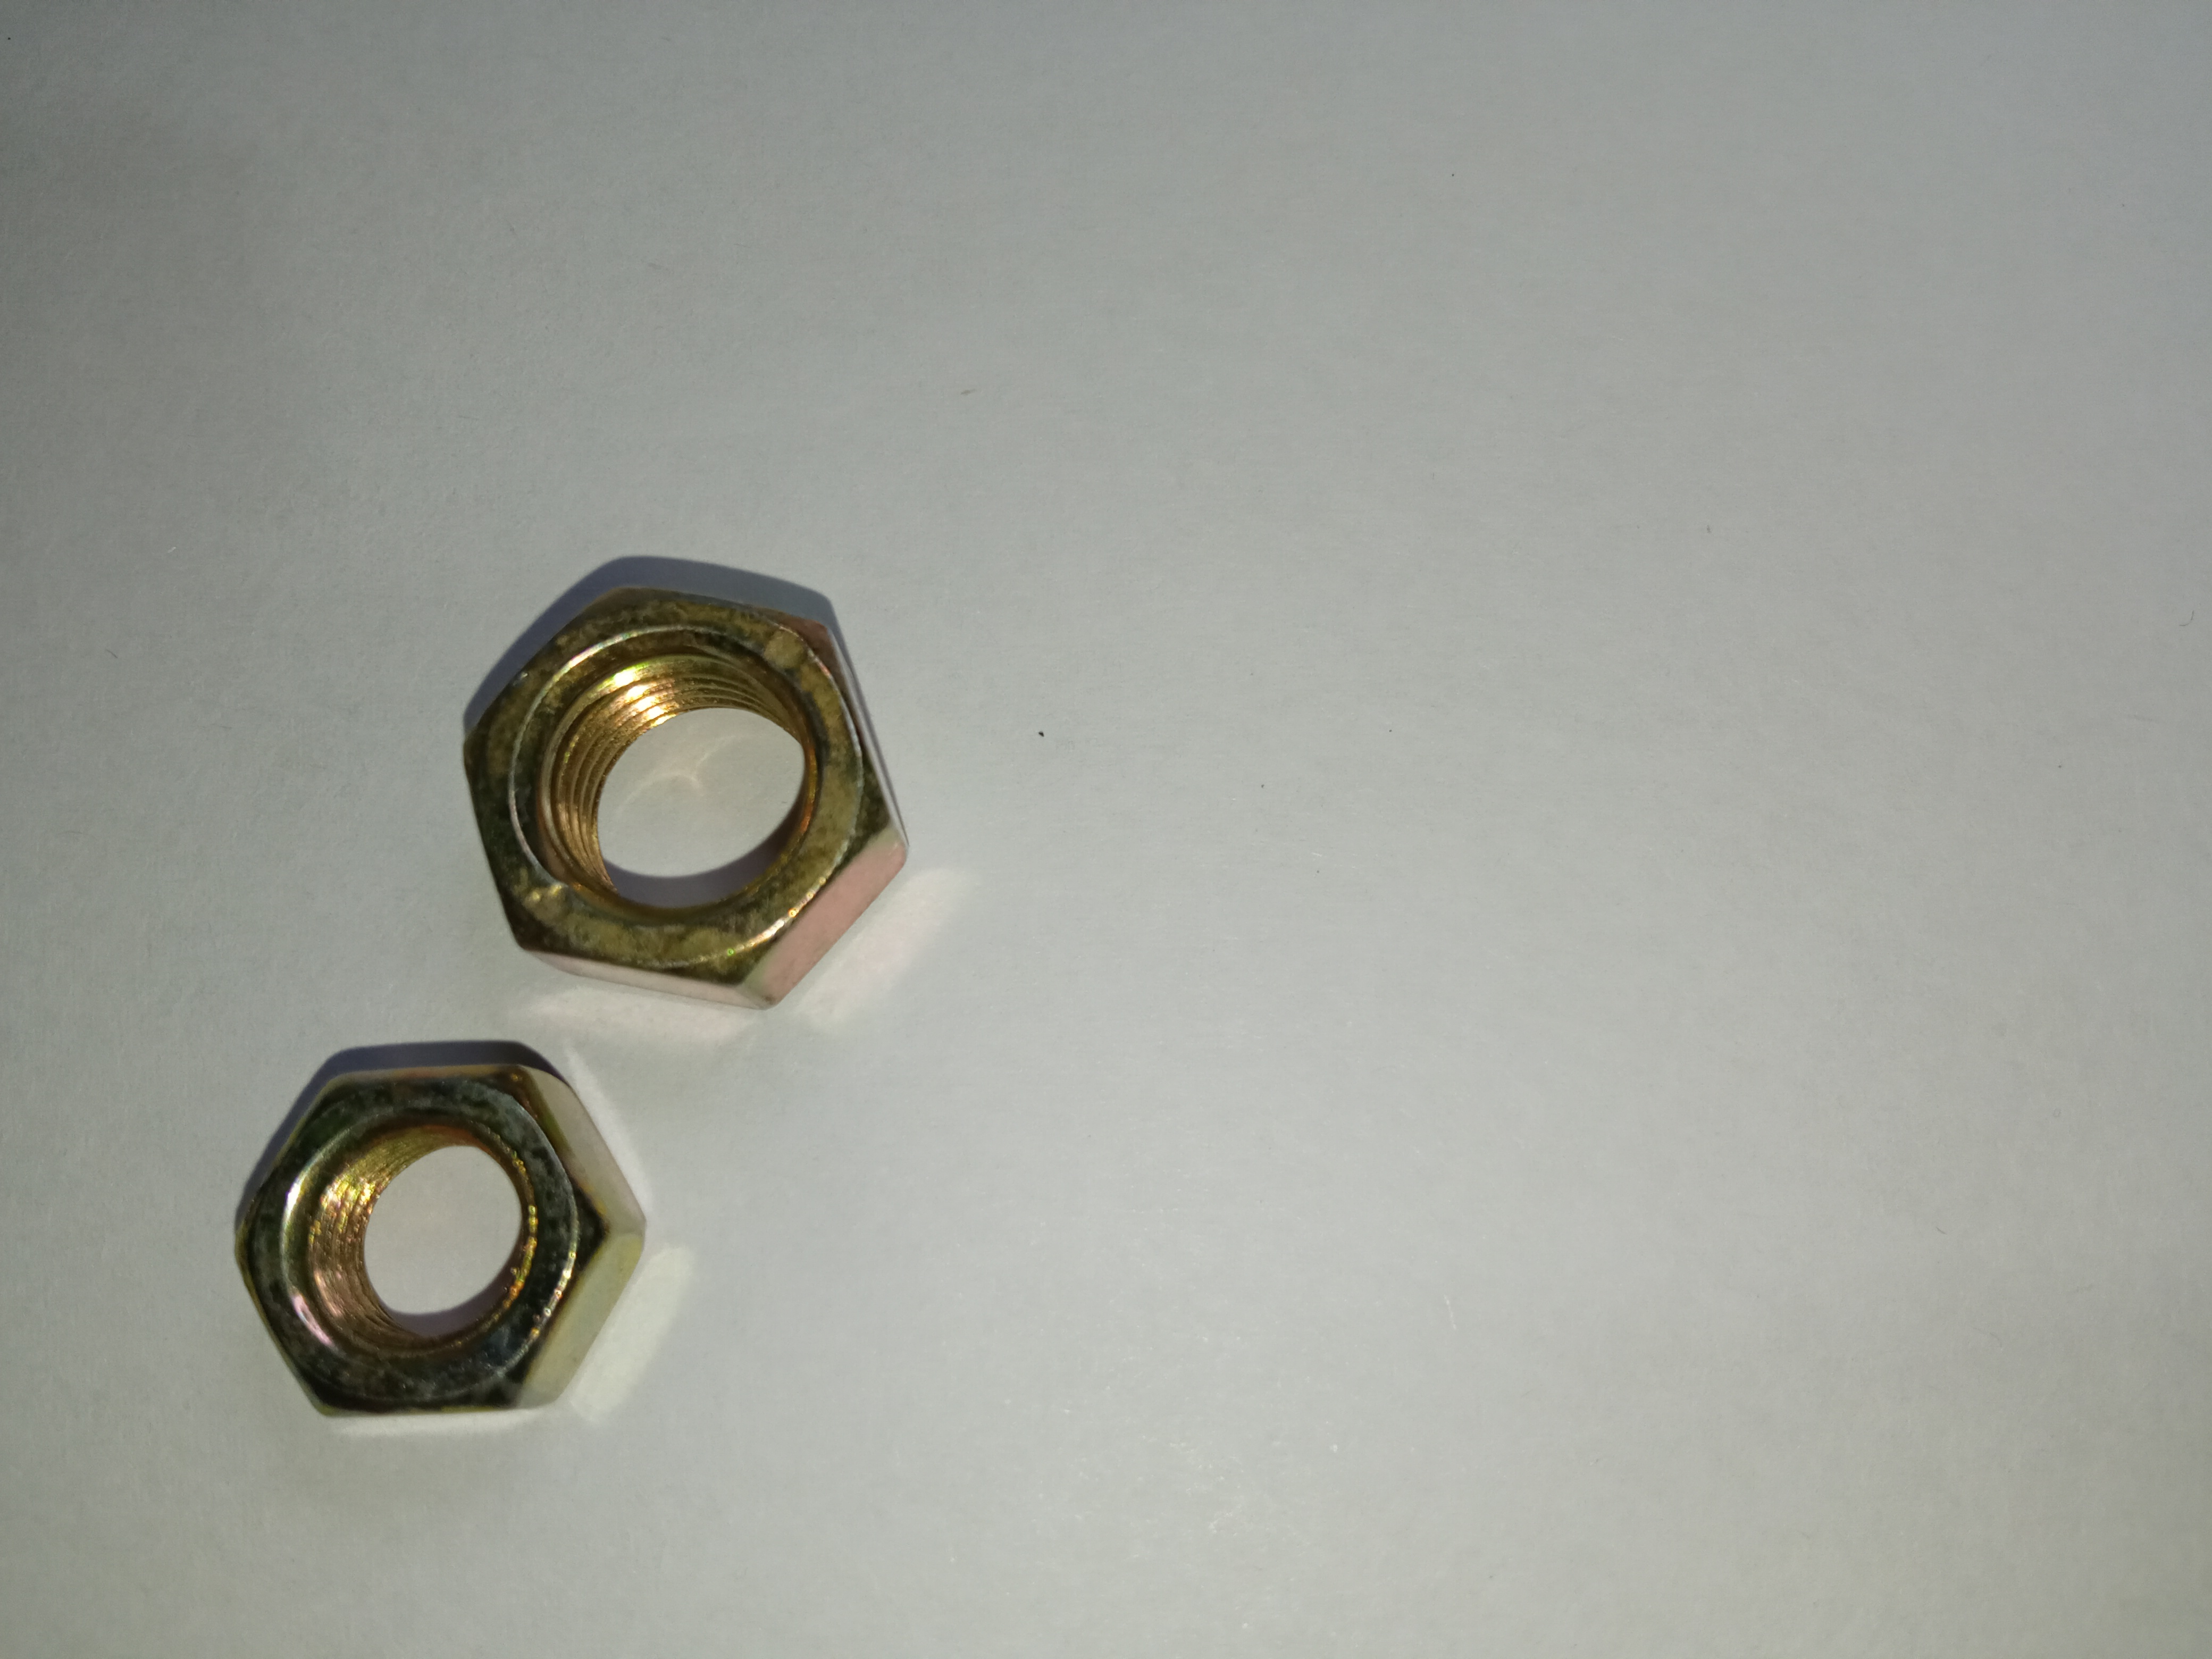m10: (442, 598, 892, 988)
m8: (242, 1061, 590, 1406)
